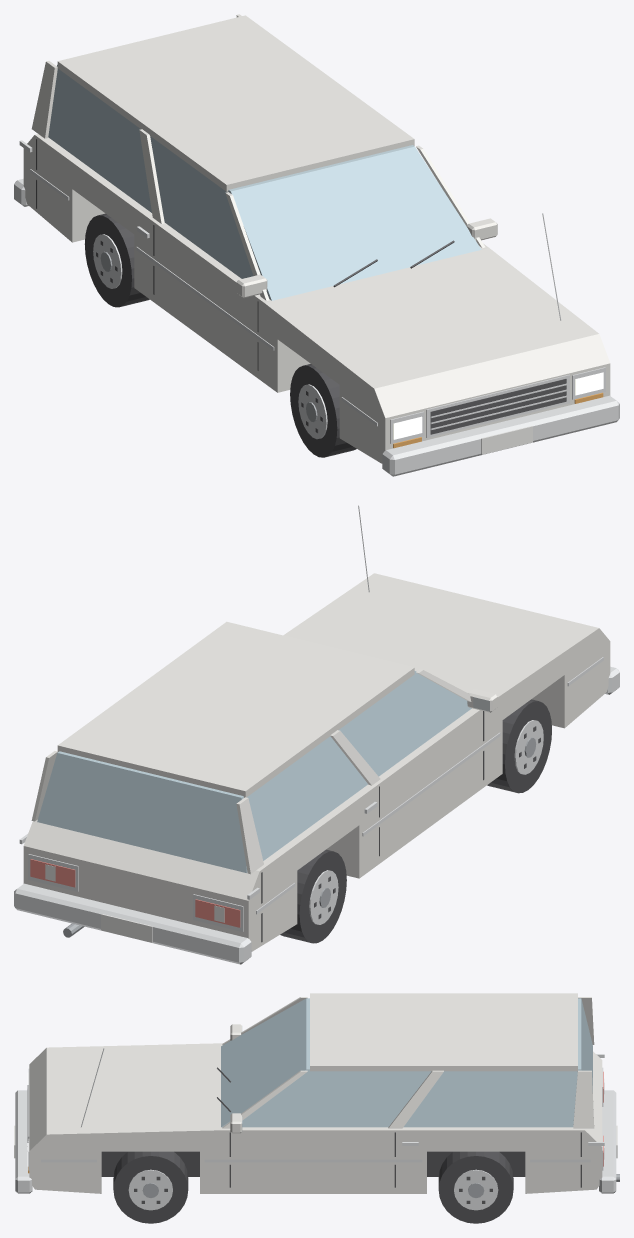
File: car_wagon_w.glb
3 views of the same model, one above another, from view 1: azimuth 30°, elevation 25°; view 2: azimuth 150°, elevation 25°; view 3: azimuth 270°, elevation 25° (orthographic). The views are drawn at different scales.
Parts seen in each view (by area): view 1: car_wagon_w_car_w, car_wagon_w_glass, car_wagon_w_chrome, car_wagon_w_rubber, car_wagon_w_dark, car_wagon_w_lamp_glass, car_wagon_w_paint_w; view 2: car_wagon_w_car_w, car_wagon_w_glass, car_wagon_w_chrome, car_wagon_w_rubber, car_wagon_w_neon_r, car_wagon_w_paint_w; view 3: car_wagon_w_car_w, car_wagon_w_glass, car_wagon_w_rubber, car_wagon_w_chrome, car_wagon_w_dark, car_wagon_w_steel.
Part boxes in pixels (<box>): car_wagon_w_car_w: <box>23,14,610,463</box>; car_wagon_w_glass: <box>48,64,481,300</box>; car_wagon_w_chrome: <box>14,140,619,476</box>; car_wagon_w_rubber: <box>84,213,356,457</box>; car_wagon_w_dark: <box>36,138,566,434</box>; car_wagon_w_lamp_glass: <box>393,372,603,439</box>; car_wagon_w_paint_w: <box>481,426,532,454</box>; car_wagon_w_car_w: <box>23,573,610,951</box>; car_wagon_w_glass: <box>37,671,471,872</box>; car_wagon_w_chrome: <box>14,505,619,964</box>; car_wagon_w_rubber: <box>280,699,551,943</box>; car_wagon_w_neon_r: <box>30,859,240,927</box>; car_wagon_w_paint_w: <box>45,864,224,942</box>; car_wagon_w_car_w: <box>29,993,602,1193</box>; car_wagon_w_glass: <box>221,998,592,1127</box>; car_wagon_w_rubber: <box>101,1151,525,1223</box>; car_wagon_w_chrome: <box>15,1048,616,1210</box>; car_wagon_w_dark: <box>27,1067,581,1203</box>; car_wagon_w_steel: <box>142,1174,619,1197</box>.
Bounding box in the file's own units: 2 × 1.6 × 5.18.
